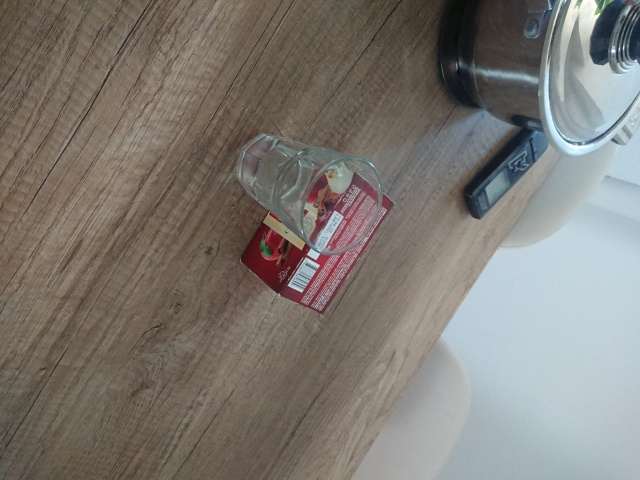Franck Apple Cinnamon Tea 60g: (237, 152, 397, 316)
